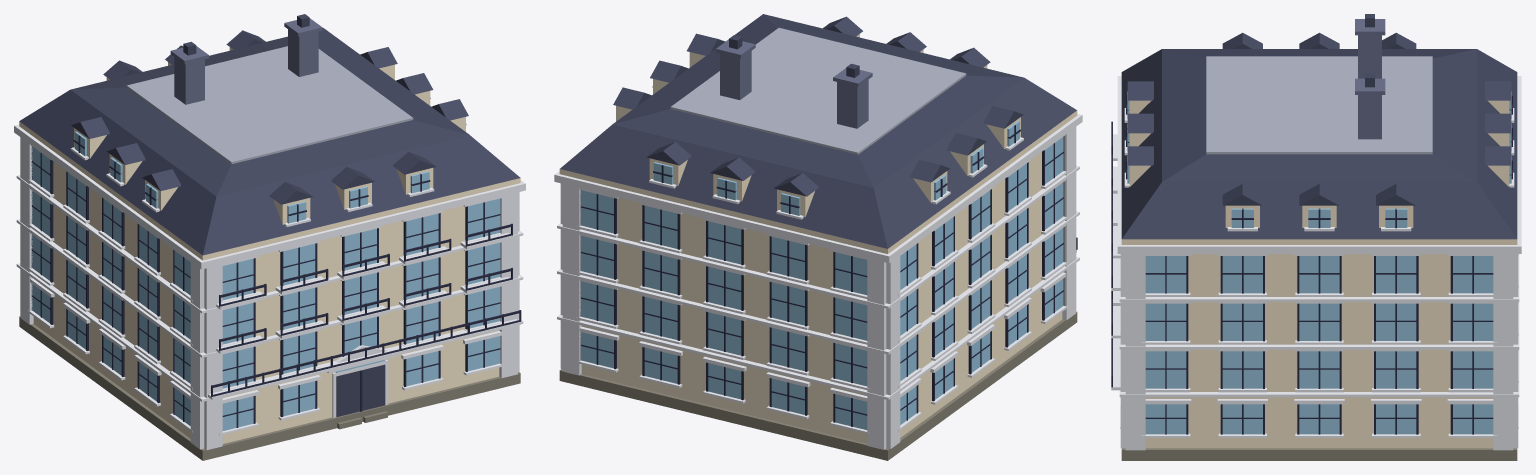
Rendered from house-2x2-4f-haussmann-a.glb.
3 views of the same model, side by side, from view 1: azimuth 30°, elevation 25°; view 2: azimuth 150°, elevation 25°; view 3: azimuth 270°, elevation 25° (orthographic). The views are drawn at different scales.
Visible parts, largest first — view 1: house-2x2-4f-haussmann-a; view 2: house-2x2-4f-haussmann-a; view 3: house-2x2-4f-haussmann-a.
Part boxes in pixels (x1,y1,x2,y2): house-2x2-4f-haussmann-a: (14,14,525,460); house-2x2-4f-haussmann-a: (554,14,1082,460); house-2x2-4f-haussmann-a: (1111,14,1521,460).
Size of the model in its own units: 2 by 1.81 by 2.03.
1 material, 1 textured.
